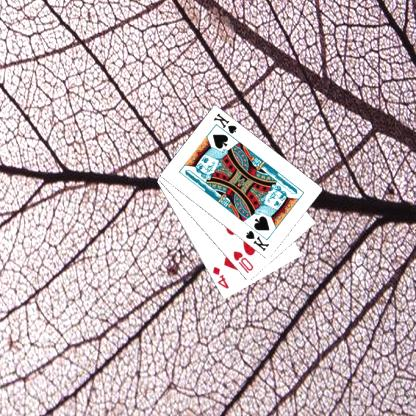10H: (232, 249, 256, 274)
4D: (212, 264, 232, 290)
KS: (212, 110, 240, 140), (245, 228, 272, 253)
